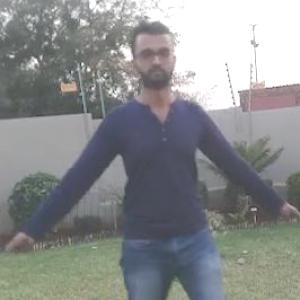land: (28, 61, 266, 299)
